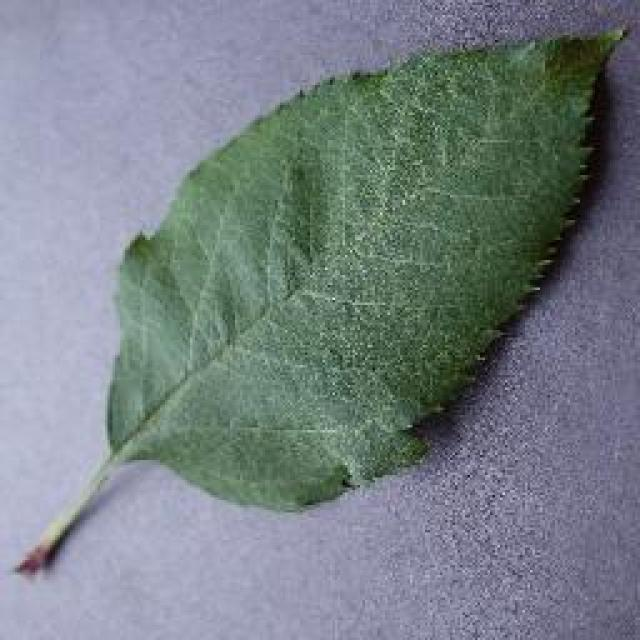apple healthy: (12, 20, 630, 578)
